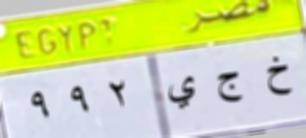2: (106, 77, 133, 109)
9: (64, 76, 94, 118), (27, 85, 54, 124)
jeem: (211, 66, 249, 114)
khaa: (260, 51, 296, 105)
yaa: (166, 73, 200, 111)
